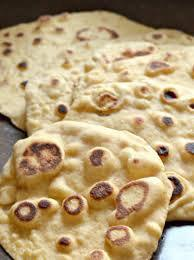Naan: (1, 8, 194, 260)
